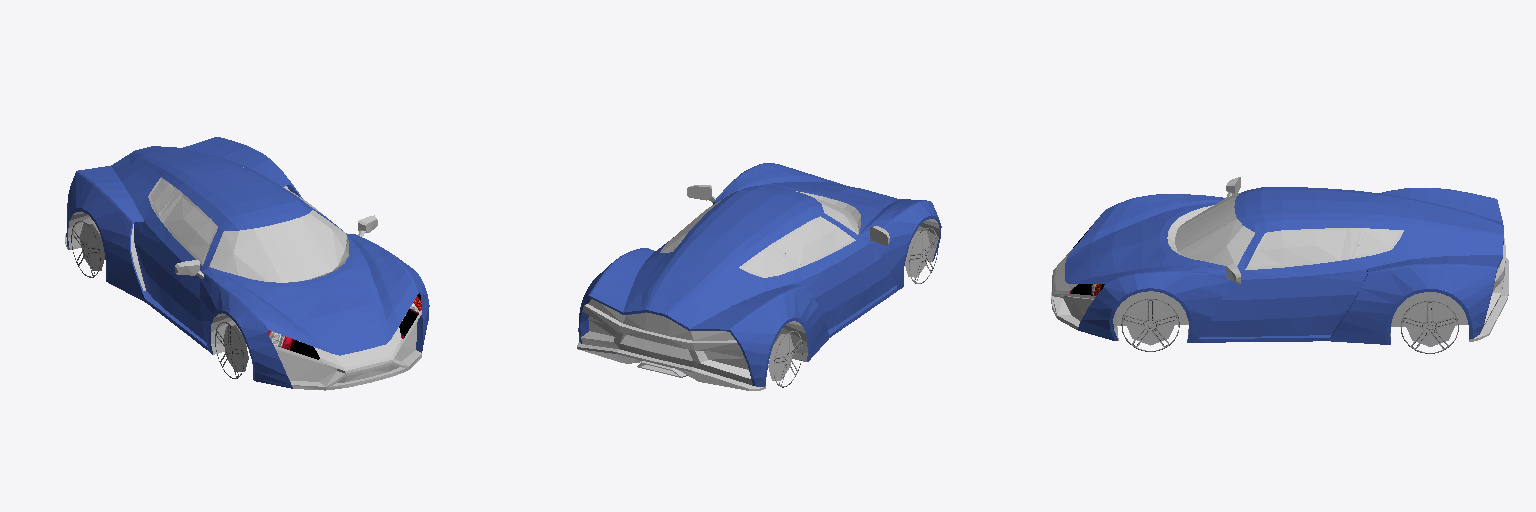
3 renders of one model, left to right at view 1: azimuth 30°, elevation 25°; view 2: azimuth 150°, elevation 25°; view 3: azimuth 270°, elevation 25°, orthographic.
Parts seen in each view (by area): view 1: Body_54_Scene.006, Glass_54_Scene.011, Matte_54_Scene.004, Glass_light_Scene.008, break_R_Scene.007; view 2: Body_54_Scene.006, Matte_54_Scene.004, Glass_54_Scene.011, Taillights_54_Scene.010, break_R_Scene.007; view 3: Body_54_Scene.006, Matte_54_Scene.004, Glass_54_Scene.011, break_L_Scene.012, Wheel_L_Scene.002, Wheel_Back_L_Scene.003.
Part boxes in pixels (x1,y1,x2,y2): Body_54_Scene.006: (66,137,429,388); Glass_54_Scene.011: (151,180,346,282); Matte_54_Scene.004: (65,167,421,390); Glass_light_Scene.008: (267,293,421,359); break_R_Scene.007: (223,325,248,371); Body_54_Scene.006: (578,163,941,386); Matte_54_Scene.004: (577,185,939,390); Glass_54_Scene.011: (662,197,858,275); Taillights_54_Scene.010: (588,299,734,340); break_R_Scene.007: (905,231,929,277); Body_54_Scene.006: (1065,187,1503,344); Matte_54_Scene.004: (1051,177,1508,346); Glass_54_Scene.011: (1175,192,1398,266); break_L_Scene.012: (1125,300,1175,345); Wheel_L_Scene.002: (1121,299,1179,351); Wheel_Back_L_Scene.003: (1401,301,1458,353).
Size of the model in its own units: 2.39 by 1.27 by 4.71.
7 materials, 2 textured.